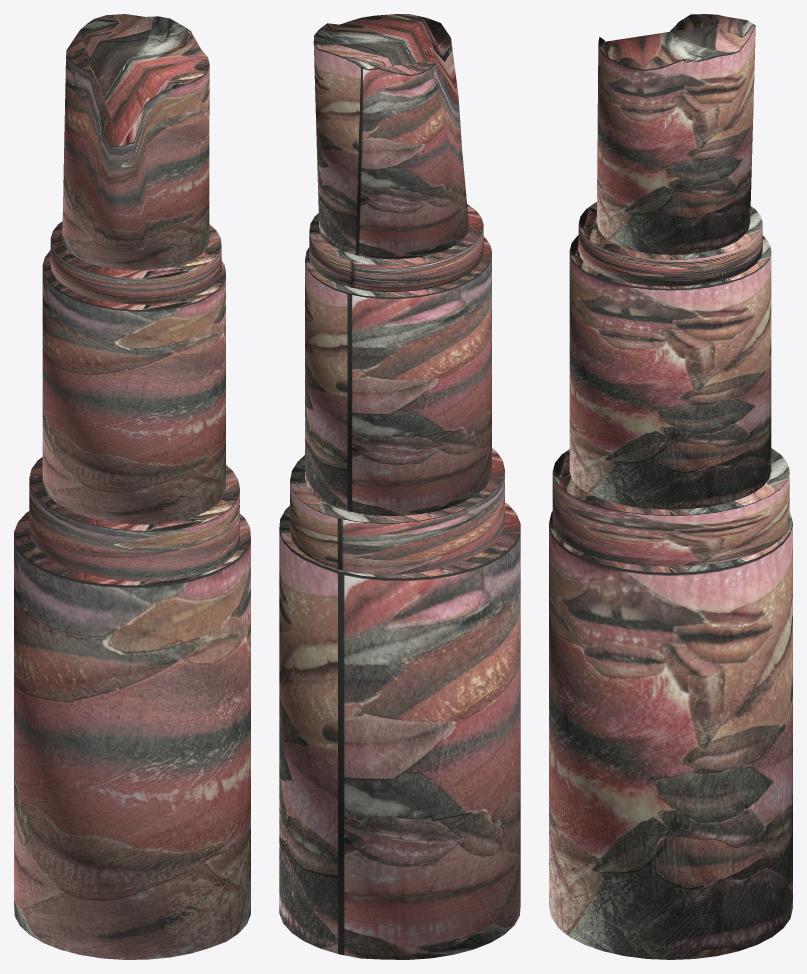
The model's file is gallery.glb.
The picture shows the model from 3 angles, left to right: view 1: azimuth 30°, elevation 25°; view 2: azimuth 150°, elevation 25°; view 3: azimuth 270°, elevation 25°; orthographic projection. The views are drawn at different scales.
Visible parts, largest first — view 1: Cylinder.003; view 2: Cylinder.003; view 3: Cylinder.003.
Boxes of the visible parts, bbox=[...] form: Cylinder.003: bbox=[14, 14, 250, 959]; Cylinder.003: bbox=[279, 14, 520, 959]; Cylinder.003: bbox=[549, 14, 792, 959].
Bounding box in the file's own units: 2 × 8.02 × 2.
1 material, 1 textured.
